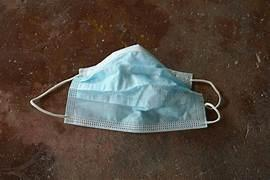Mask: (30, 45, 220, 132)
